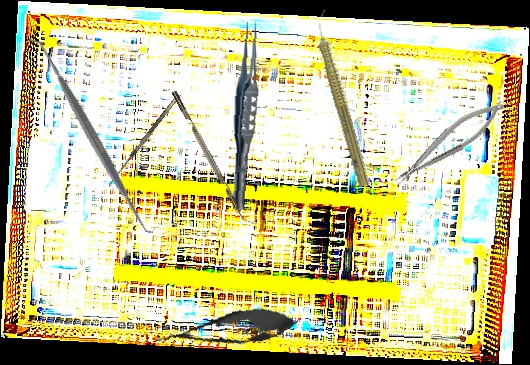Chopper: (171, 87, 255, 229)
Handpiece: (307, 9, 377, 188)
Hook Surgical: (106, 93, 186, 191)
Micro Scissor: (151, 301, 301, 358)
Needle Holder: (385, 94, 512, 191)
Spatula Surgical: (25, 29, 158, 242)
Tissue Forceps: (228, 19, 263, 211)
